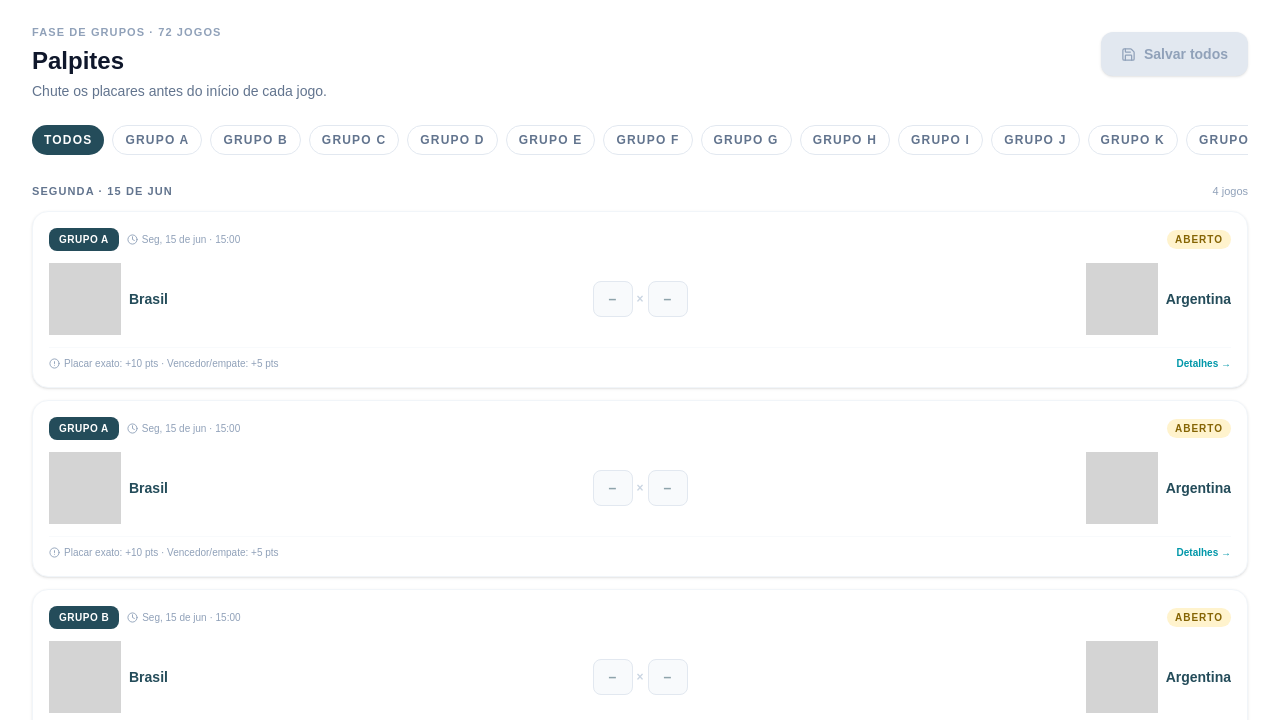
Test: PalpitesPage › clicking "GRUPO A" chip filters displayed list to group-A matches only
The width and height of the screenshot is (1280, 720).
What coordinates should you click on to do the following:
click the button with test id "group-chip-A"
I would click on:
 (158, 140)
Its box is x1=112 y1=124 x2=202 y2=154.
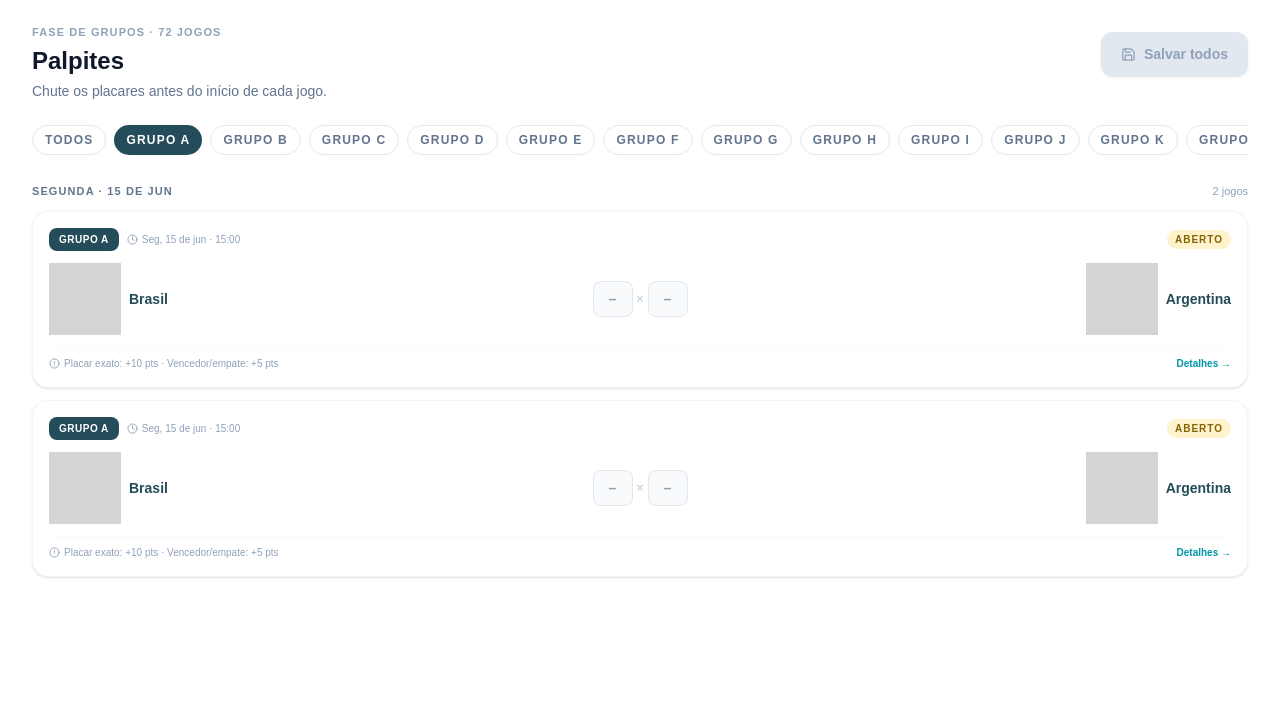
Expected: the number of elements with test id "match-row" is 2, x1=32 y1=211 x2=1248 y2=388; x1=32 y1=400 x2=1248 y2=577
